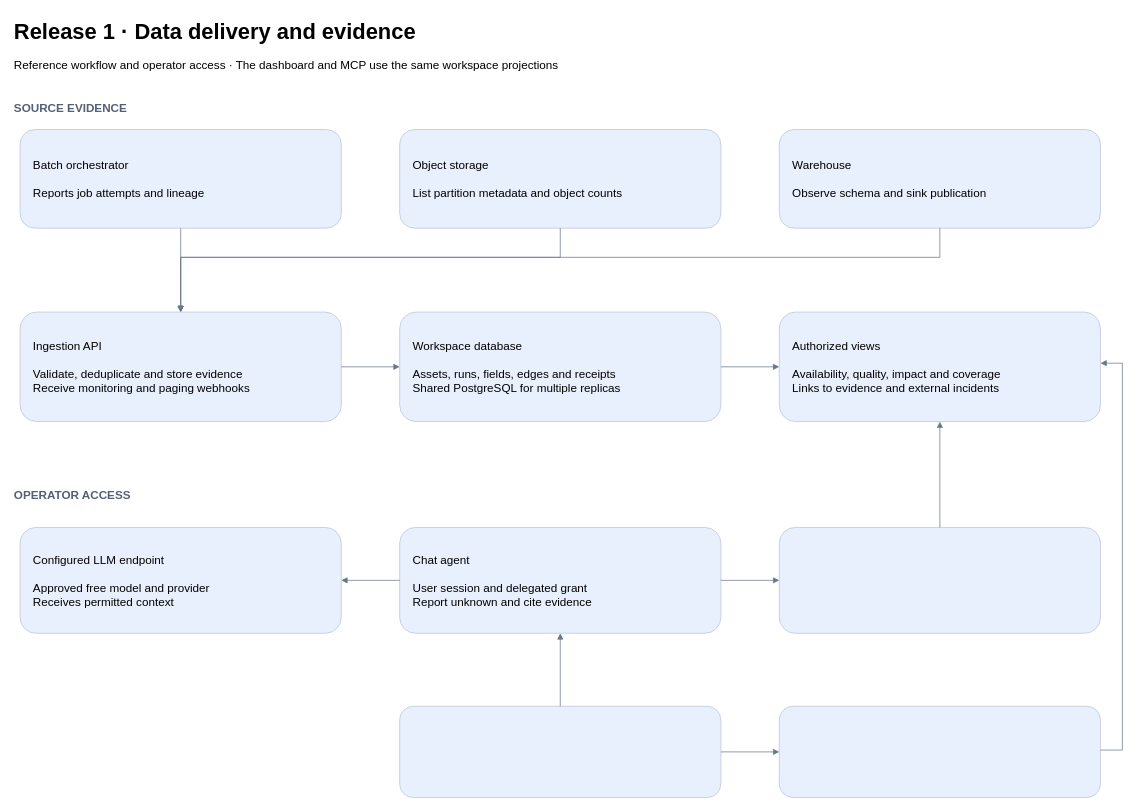
Some shapes in this 1141 by 810 pixel diagram are drawn without their labels. The shapes that lost their labels are listed below. From the top down, each one's centre as x and y in pixels, then its label:
(939,580): Read-only MCP Validate user, workspace and scope One tool per live view
(560,752): Operator Monitor deliveries and investigate impact
(939,752): Live dashboard Same caller-scoped response fields
